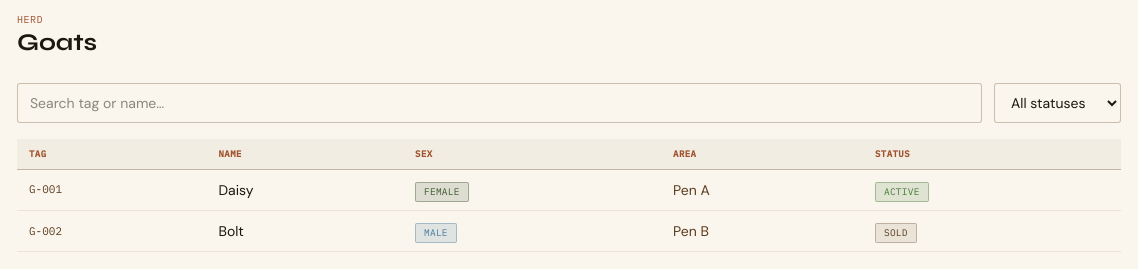
Test: GoatList page › filters by search query
The width and height of the screenshot is (1138, 269).
Expected: the text "G-002" is shown, [17,210,206,252]
Type "Daisy" into the search field at {"x": 500, "y": 103}, box [17,83,982,123]
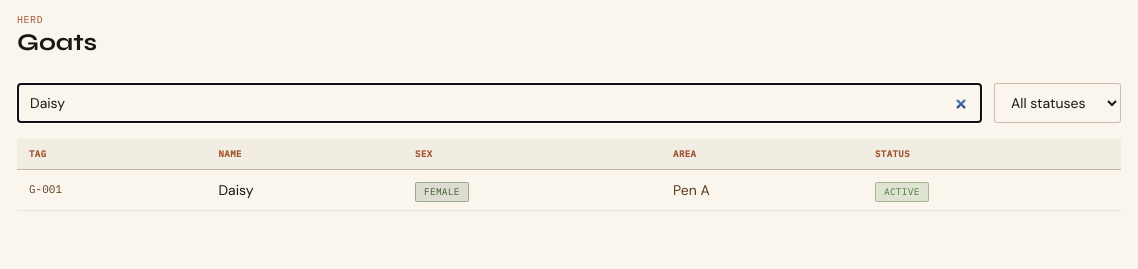
Expected: the text "G-001" is shown, [17,169,206,210]
Expected: the text "G-002" is gone
